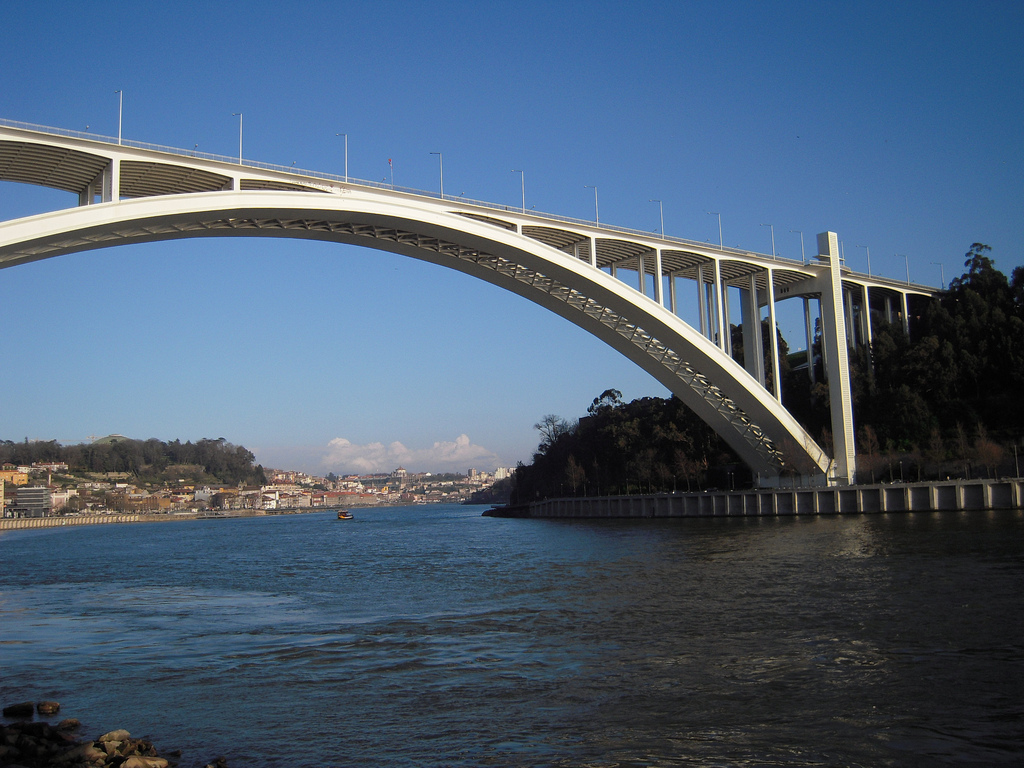arrabida: (0, 120, 950, 492)
